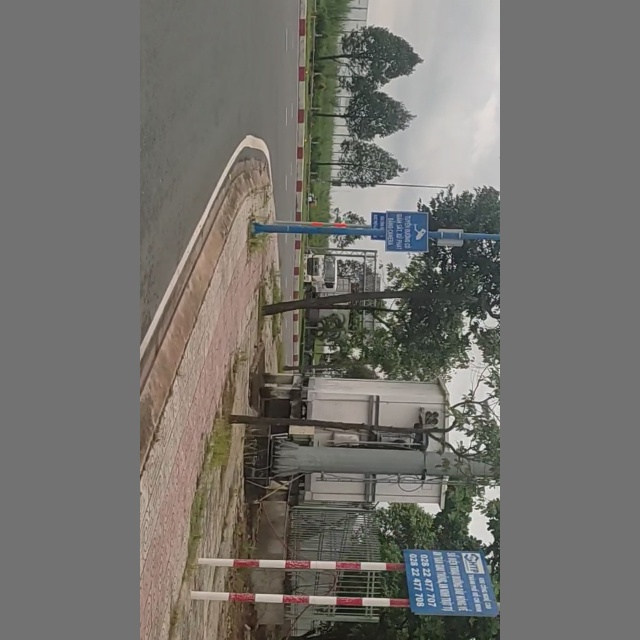Camera: (385, 210, 429, 254)
